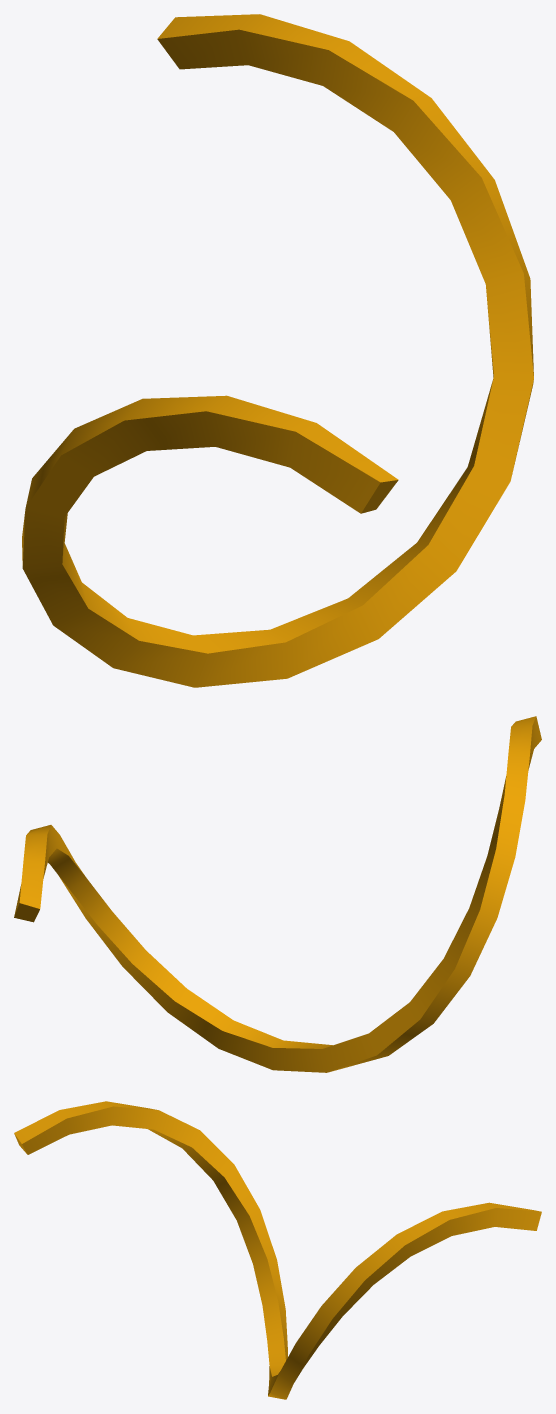
Rendered from L_Rope_A_07.fbx.
3 renders of one model, top to bottom at view 1: azimuth 30°, elevation 25°; view 2: azimuth 150°, elevation 25°; view 3: azimuth 270°, elevation 25°, orthographic. The views are drawn at different scales.
Visible parts, largest first — view 1: L_Rope_A_07; view 2: L_Rope_A_07; view 3: L_Rope_A_07.
Boxes of the visible parts, left/top/right/bottom form: L_Rope_A_07: left=22, top=14, right=533, bottom=687; L_Rope_A_07: left=14, top=716, right=541, bottom=1072; L_Rope_A_07: left=14, top=1101, right=541, bottom=1399.
Size of the model in its own units: 147 by 103 by 219.
